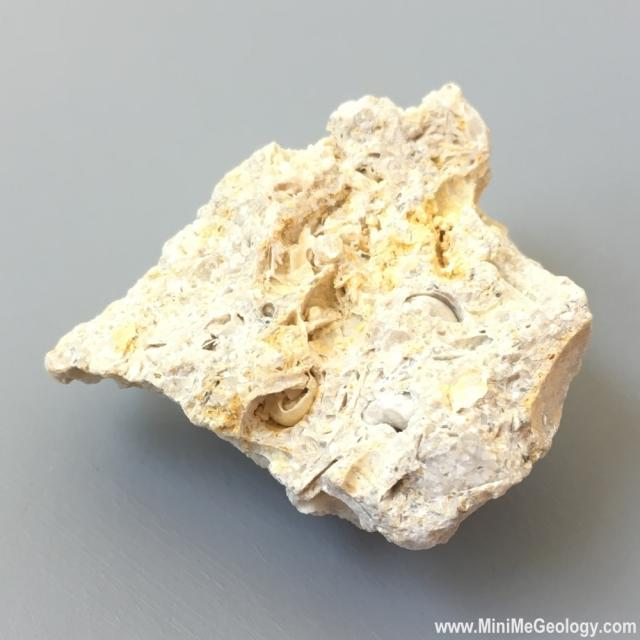Sedimentary: (34, 57, 590, 555)
